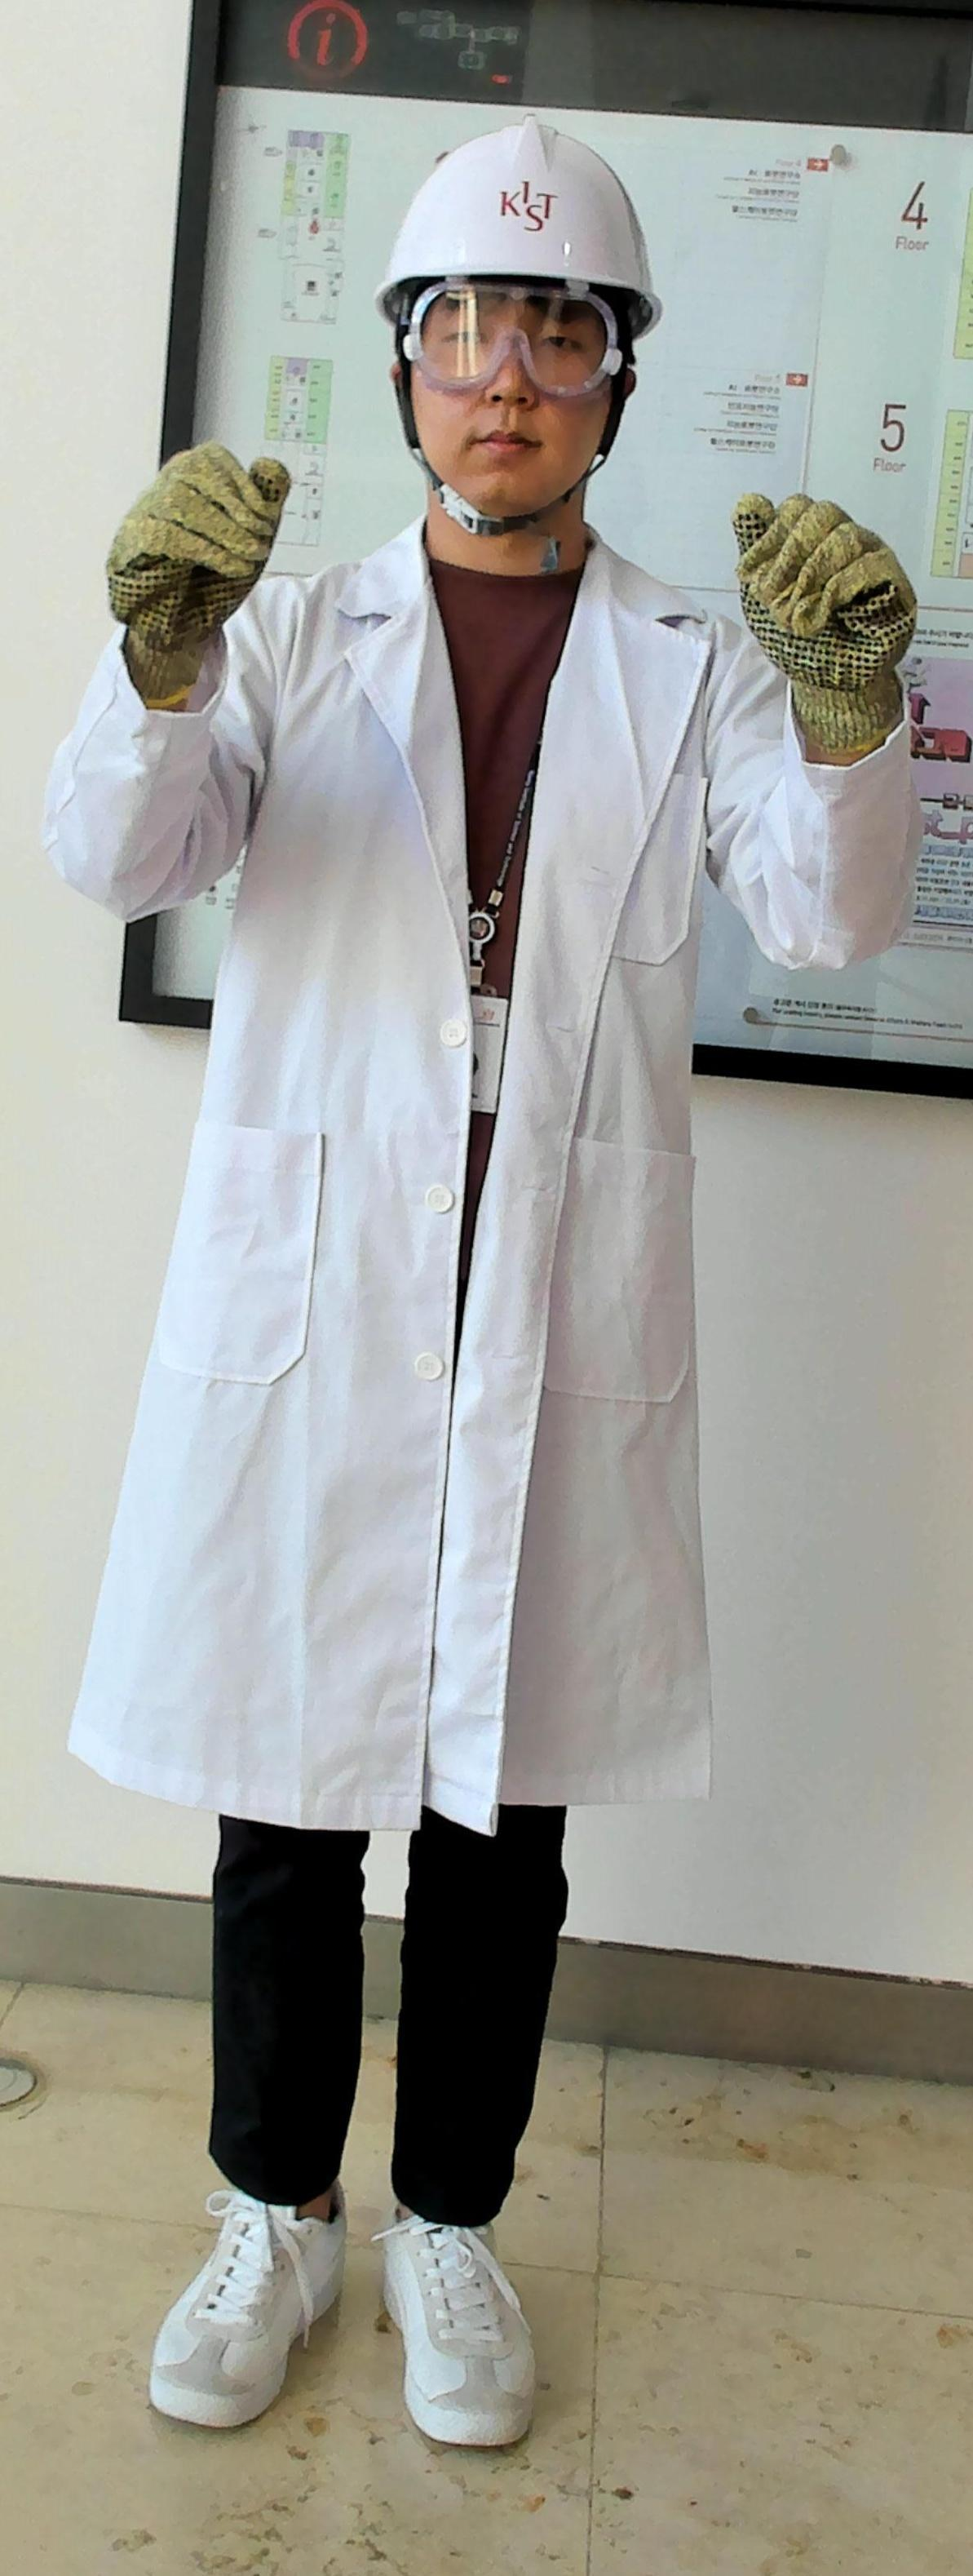lab_coat: (98, 698, 771, 1786)
